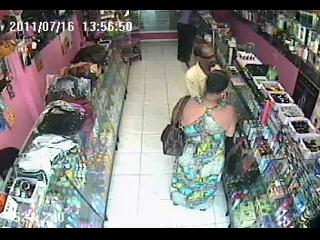Normal: (166, 70, 238, 216), (160, 95, 191, 156), (185, 44, 218, 98), (176, 10, 200, 68), (121, 46, 142, 64)
